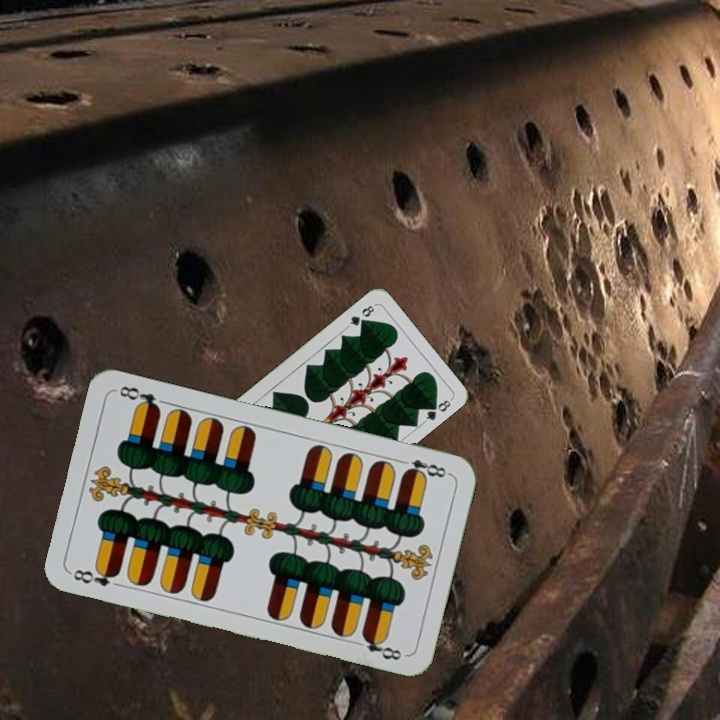E8: (394, 455, 452, 481), (67, 563, 122, 589)
G8: (343, 301, 378, 330)
